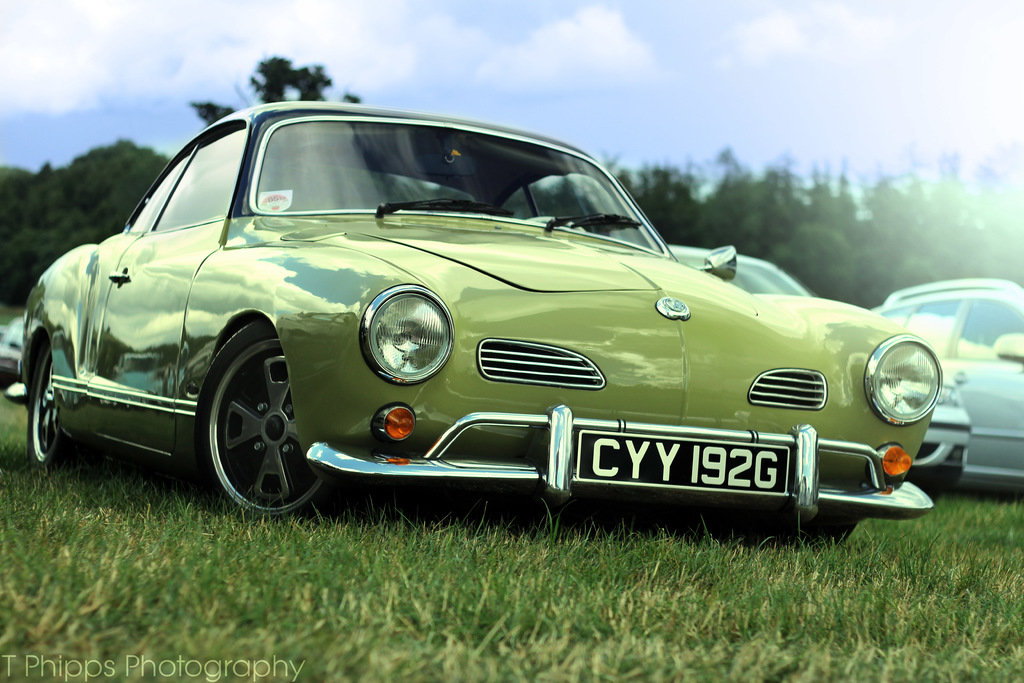Car: (2, 99, 946, 547), (867, 279, 1024, 494), (664, 239, 812, 298)
